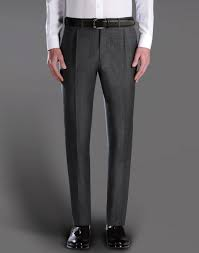F_belt: (52, 10, 147, 33)
F_dress pants: (59, 26, 144, 231)
